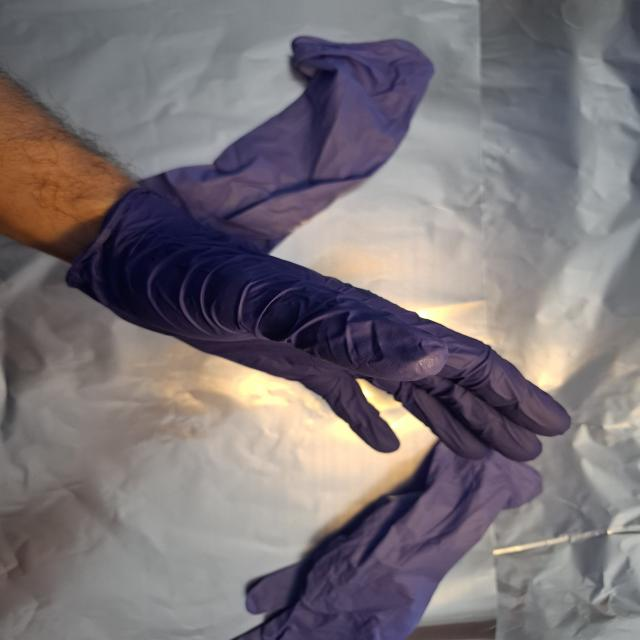glove_on: (61, 185, 574, 464)
